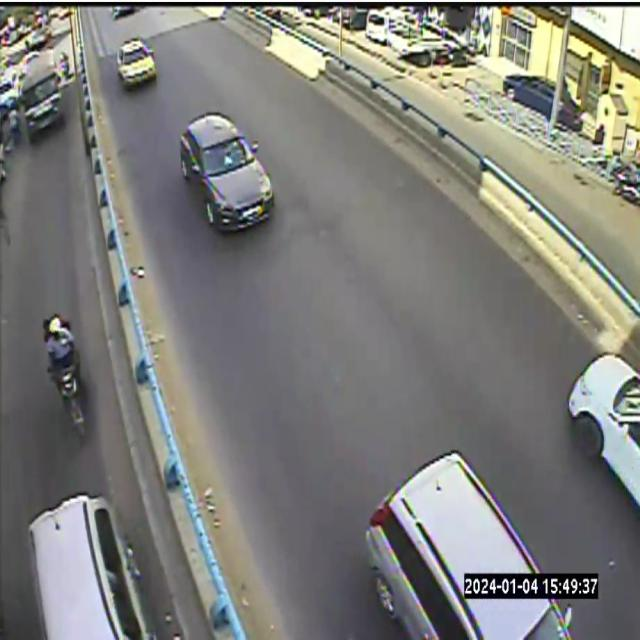car: (366, 451, 572, 639), (180, 112, 274, 230), (568, 354, 639, 505), (118, 39, 156, 89)
